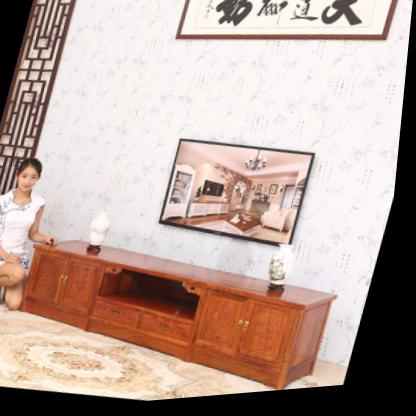TV stand: (3, 212, 354, 414)
